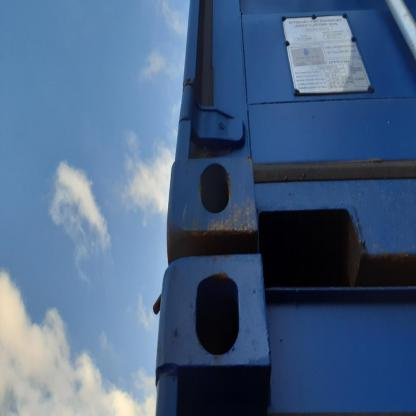CornerCasting: (162, 254, 272, 375), (162, 160, 261, 244)
